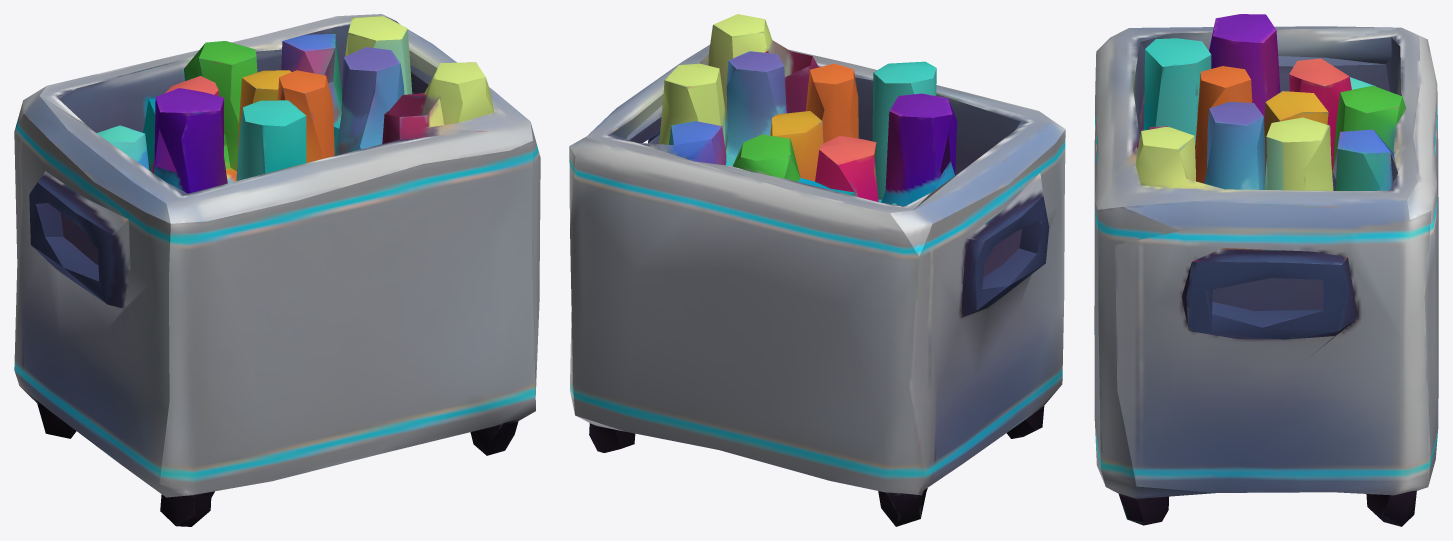
Rendered from cryo-cooler.glb.
3 views of the same model, side by side, from view 1: azimuth 30°, elevation 25°; view 2: azimuth 150°, elevation 25°; view 3: azimuth 270°, elevation 25° (orthographic). The views are drawn at different scales.
Parts seen in each view (by area): view 1: geometry_0; view 2: geometry_0; view 3: geometry_0.
Part boxes in pixels (x1,y1,x2,y2): geometry_0: (14,14,540,526); geometry_0: (569,14,1065,526); geometry_0: (1094,14,1438,526).
Size of the model in its own units: 1 by 0.8607 by 0.7123.
Materials: 1 (1 with a texture image).
